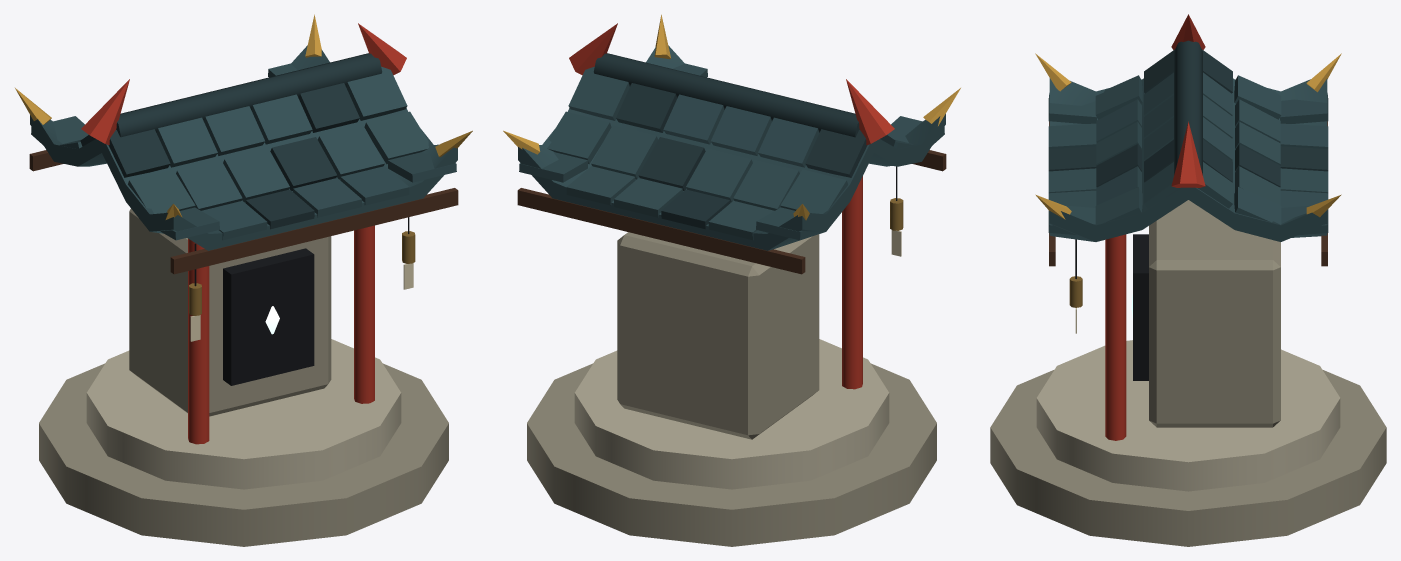
Rendered from shrine_wind.glb.
3 views of the same model, side by side, from view 1: azimuth 30°, elevation 25°; view 2: azimuth 150°, elevation 25°; view 3: azimuth 270°, elevation 25° (orthographic). The views are drawn at different scales.
Visible parts, largest first — view 1: Shrine; view 2: Shrine; view 3: Shrine.
Part boxes in pixels (box(x1,y1,x2,y2)): Shrine: box(15, 14, 472, 546); Shrine: box(503, 14, 960, 546); Shrine: box(990, 14, 1386, 546).
Size of what is drawn, in the model's own units: 3 by 3.3 by 3.
